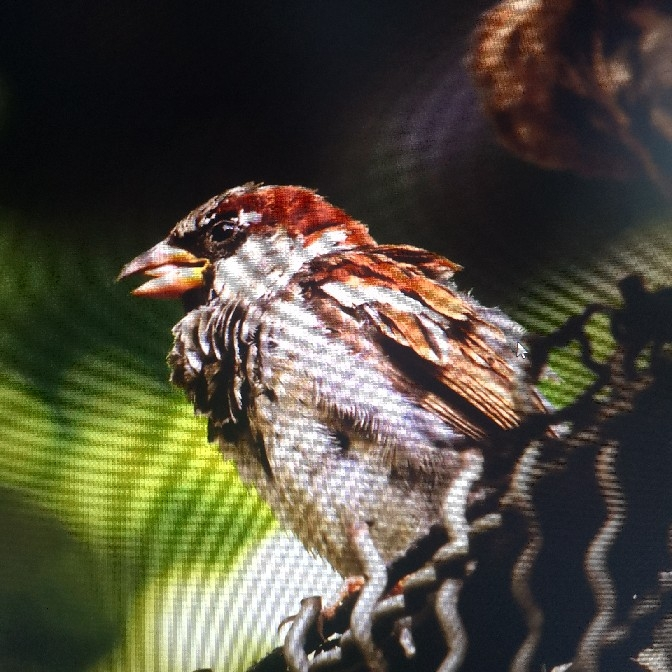Not_a_Chicken: (112, 166, 565, 639)
